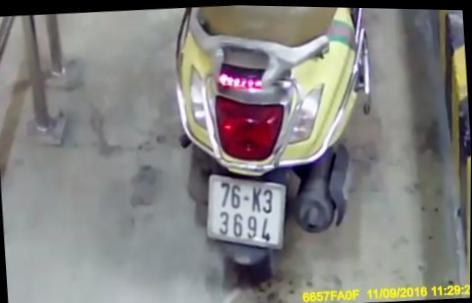LP: (202, 167, 292, 255)
